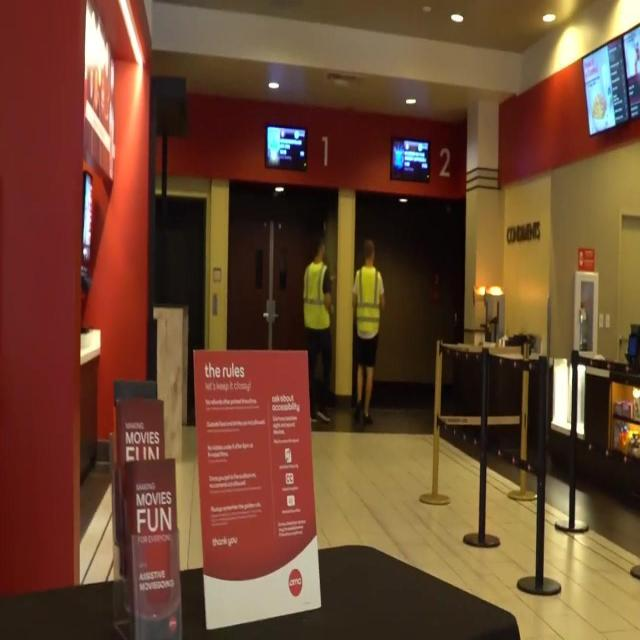Vest: (355, 263, 384, 338), (302, 260, 330, 330)
